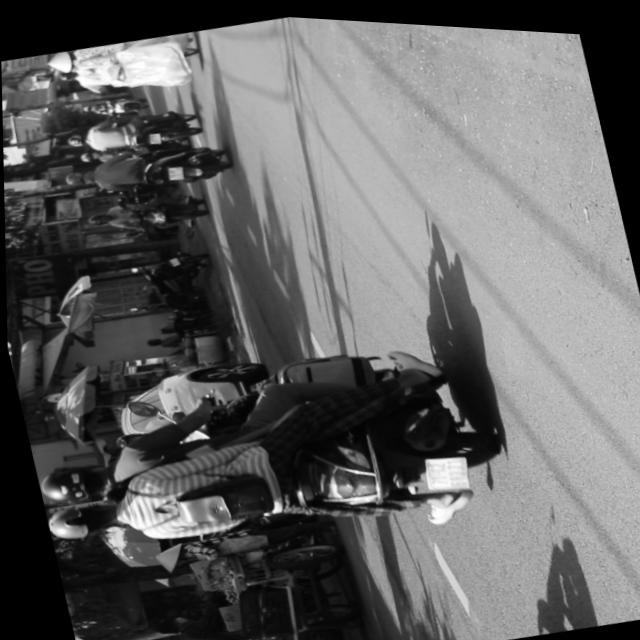helmet: (42, 494, 123, 549), (32, 457, 109, 512), (60, 168, 91, 190)
licenseplate: (15, 302, 516, 601), (58, 129, 233, 210)
nohelmet: (417, 446, 468, 491), (164, 163, 181, 180)
